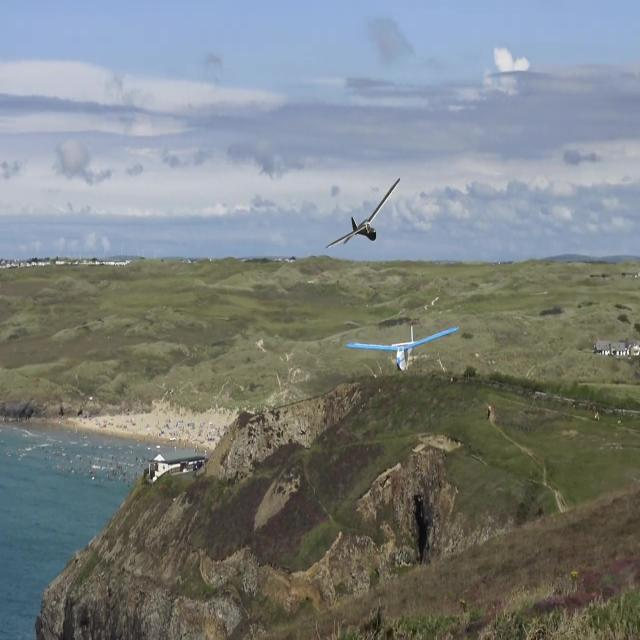iha: (377, 324, 429, 372), (360, 208, 365, 224)
